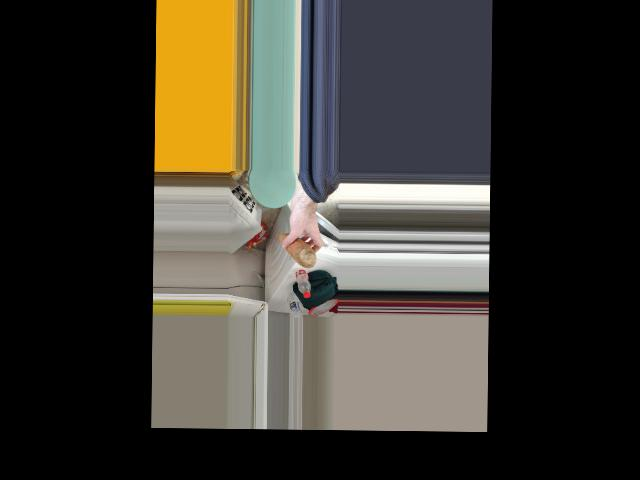sweet_potato: (275, 232, 319, 267)
